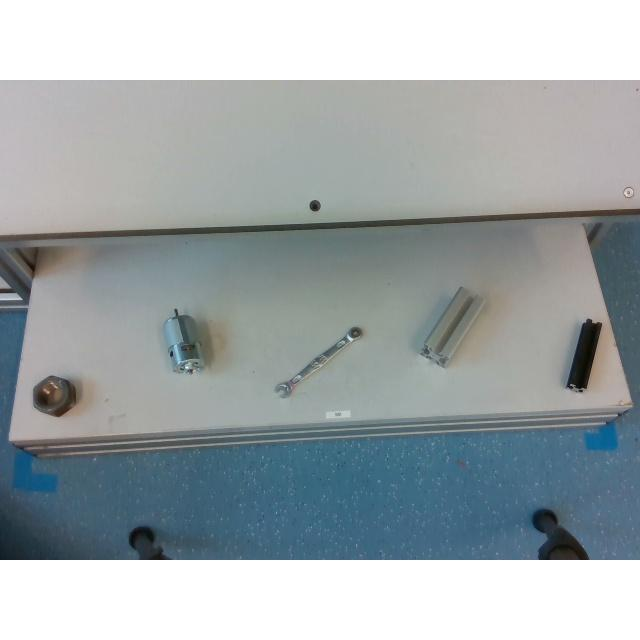F20_20_B: (567, 320, 601, 390)
M30: (33, 374, 76, 414)
Motor2: (164, 308, 202, 372)
S40_40_G: (420, 286, 484, 364)
Wrench: (274, 326, 362, 396)
